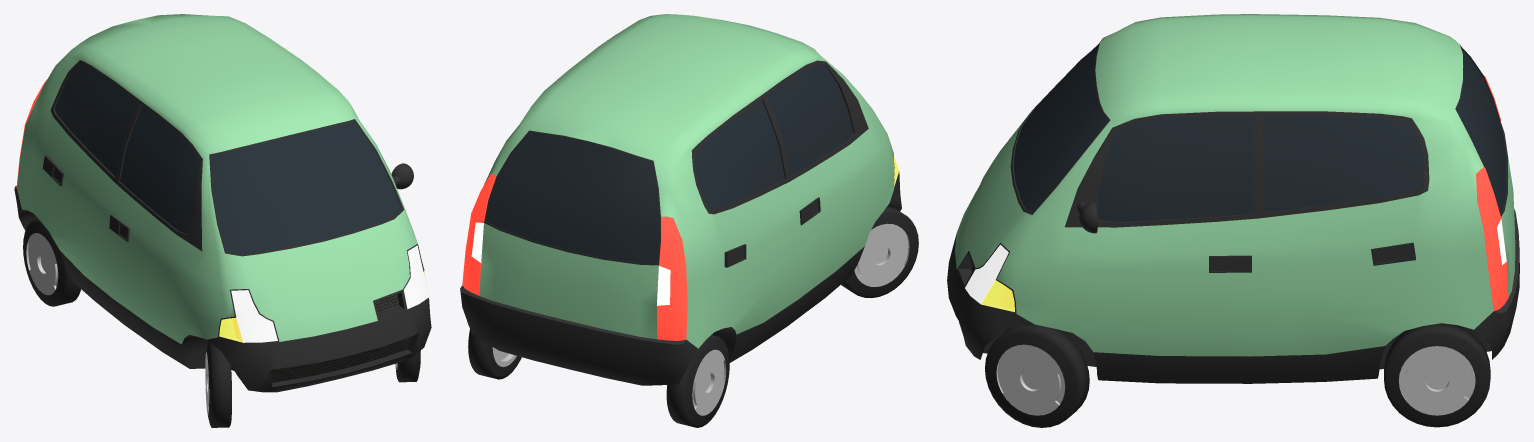
File: car-5.glb
3 renders of one model, left to right at view 1: azimuth 30°, elevation 25°; view 2: azimuth 150°, elevation 25°; view 3: azimuth 270°, elevation 25°, orthographic. The views are drawn at different scales.
Visible parts, largest first — view 1: CarBody.005, Cylinder.002, Cylinder.003, Cylinder; view 2: CarBody.005, Cylinder.003, Cylinder.002, Cylinder.001; view 3: CarBody.005, Cylinder.001, Cylinder.
Part boxes in pixels (x1,y1,x2,y2): CarBody.005: [14, 14, 431, 392]; Cylinder.002: [23, 219, 81, 306]; Cylinder.003: [205, 341, 231, 427]; Cylinder: [395, 350, 420, 382]; CarBody.005: [460, 14, 901, 385]; Cylinder.003: [841, 205, 918, 297]; Cylinder.002: [666, 335, 729, 427]; Cylinder.001: [468, 329, 521, 379]; CarBody.005: [947, 14, 1519, 383]; Cylinder.001: [1384, 323, 1490, 427]; Cylinder: [985, 324, 1089, 427].
Size of the model in its own units: 2.05 by 2.18 by 3.52.
10 materials, 1 textured.
